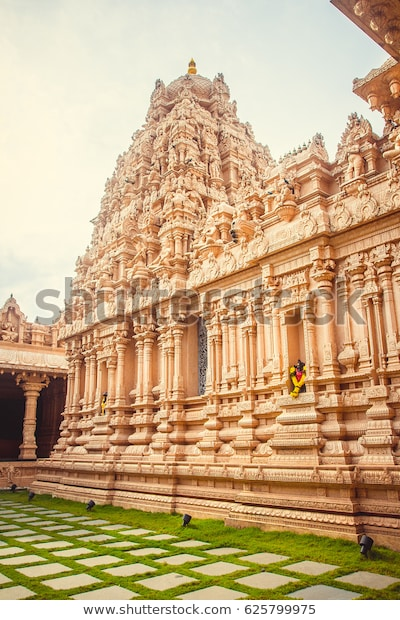Hindu Temple: (20, 51, 395, 511)
